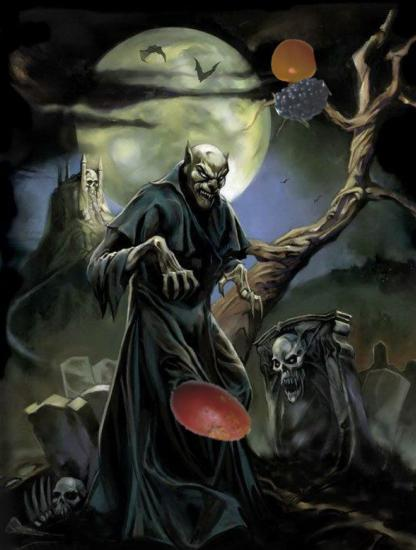Mulberry: (275, 73, 331, 129)
Physalis: (268, 38, 319, 89)
Potato: (166, 368, 255, 457)
